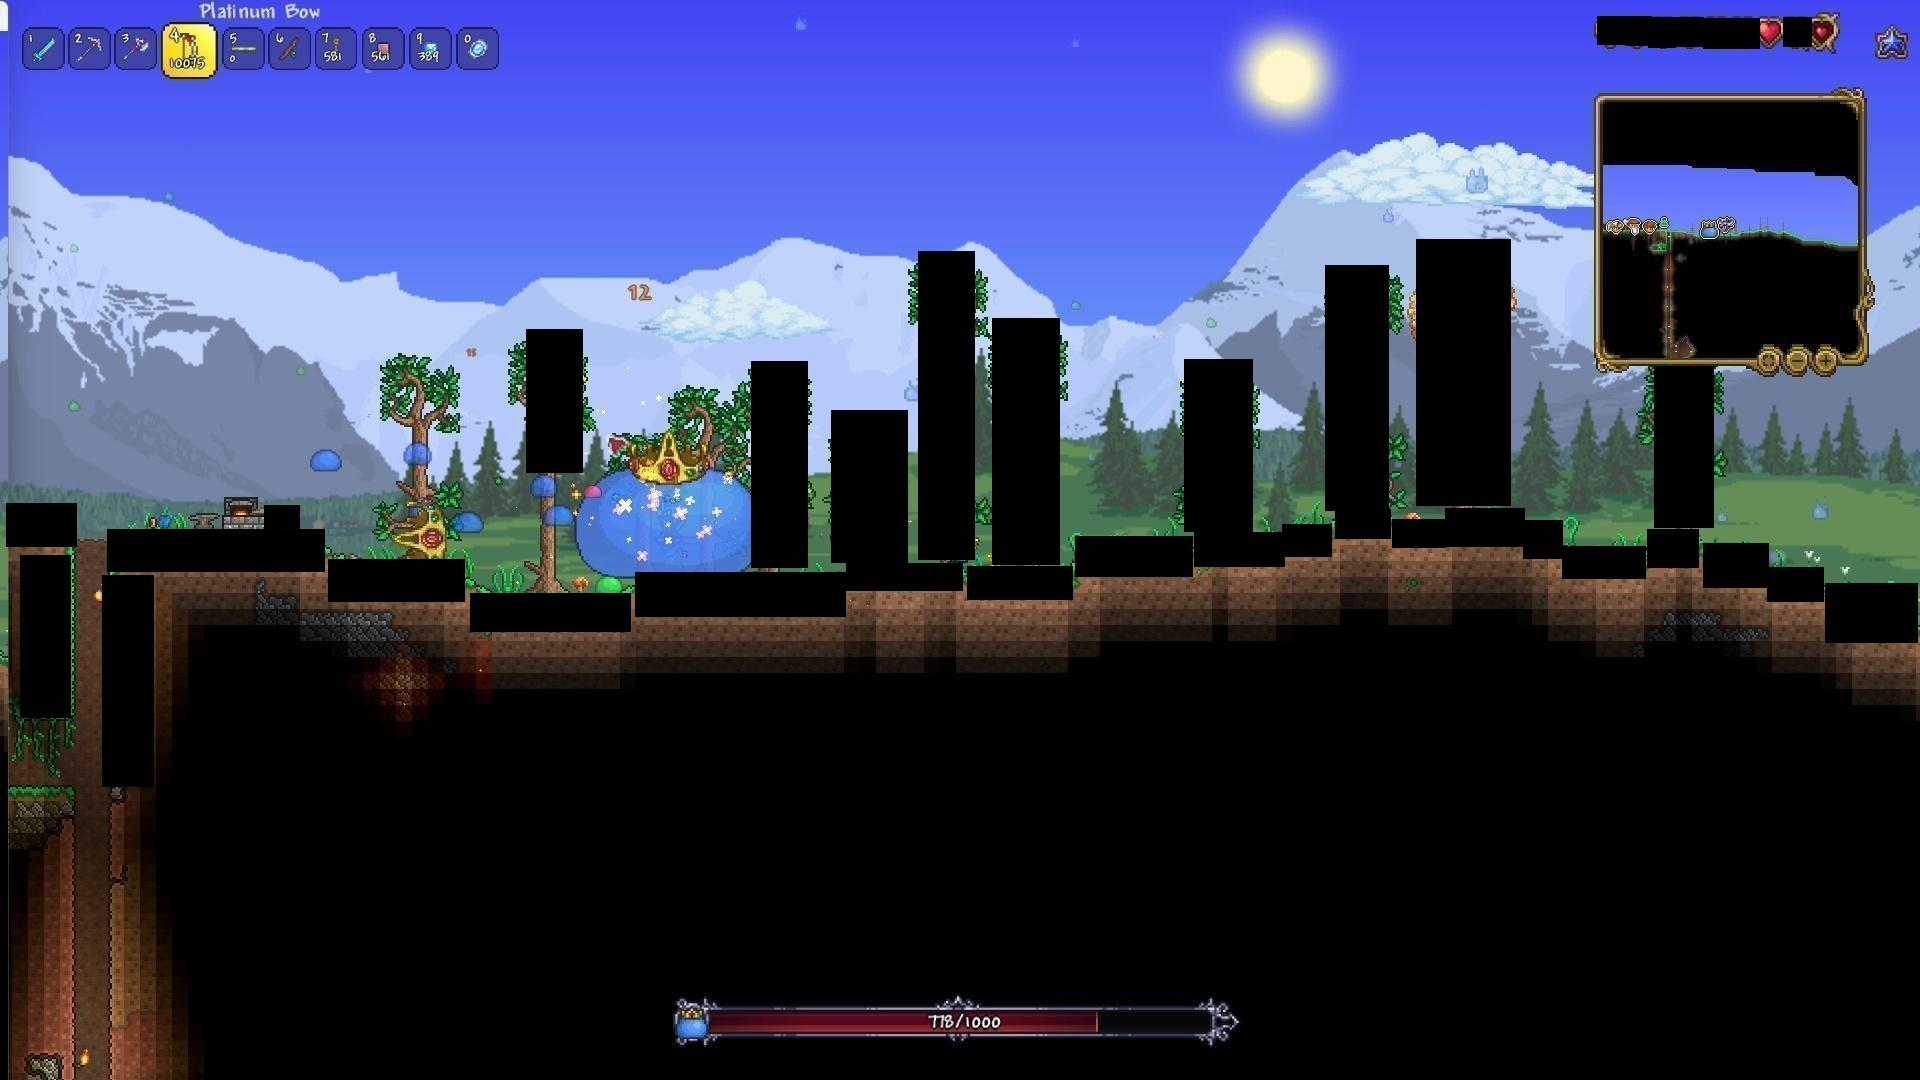dirt: (8, 773, 76, 806)
heart: (1756, 18, 1784, 47)
slime: (520, 471, 564, 502), (305, 446, 351, 475), (450, 510, 491, 537), (401, 442, 435, 469), (541, 505, 579, 529), (591, 570, 626, 593), (583, 483, 604, 498)
tree: (373, 342, 464, 444)
